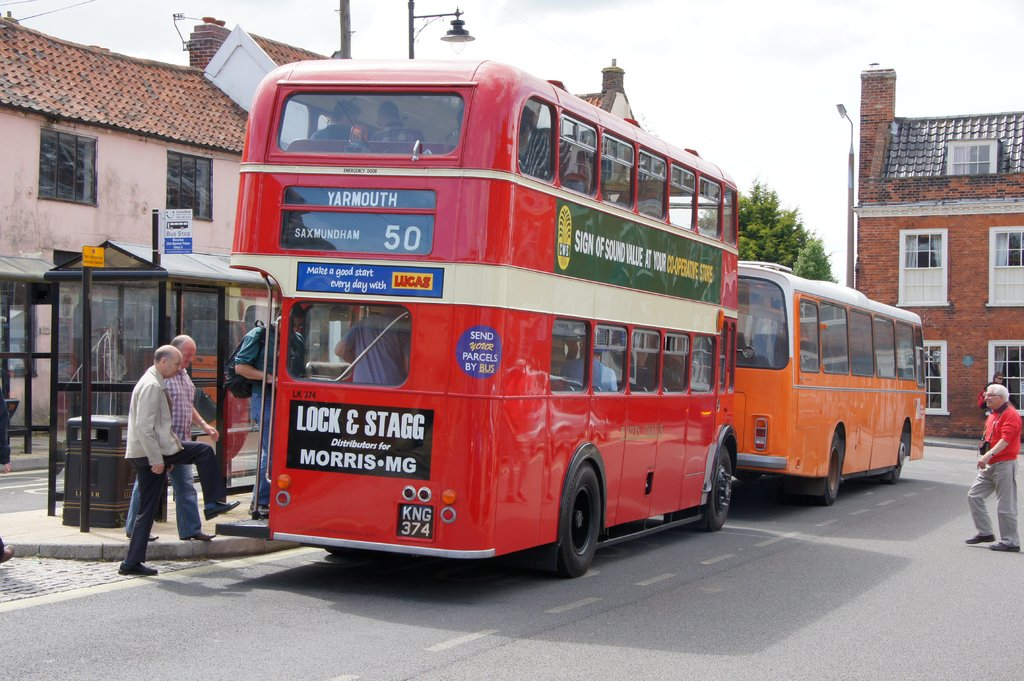Bus: (224, 56, 743, 579), (730, 261, 939, 506)
